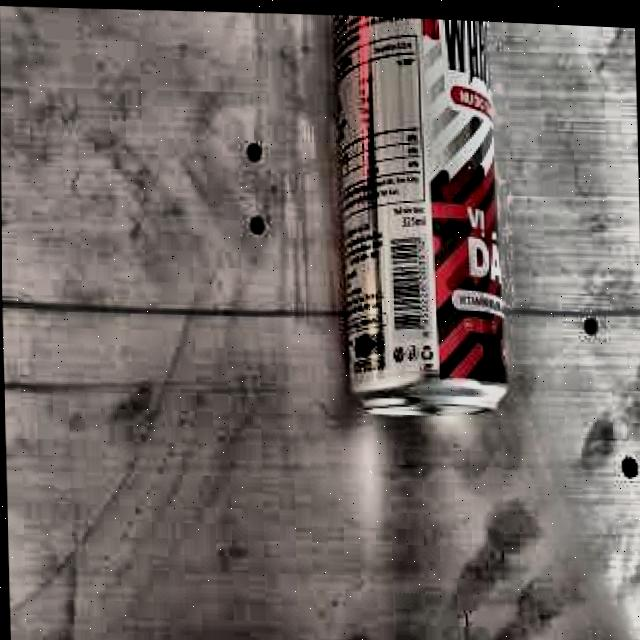metal: (332, 12, 525, 421)
